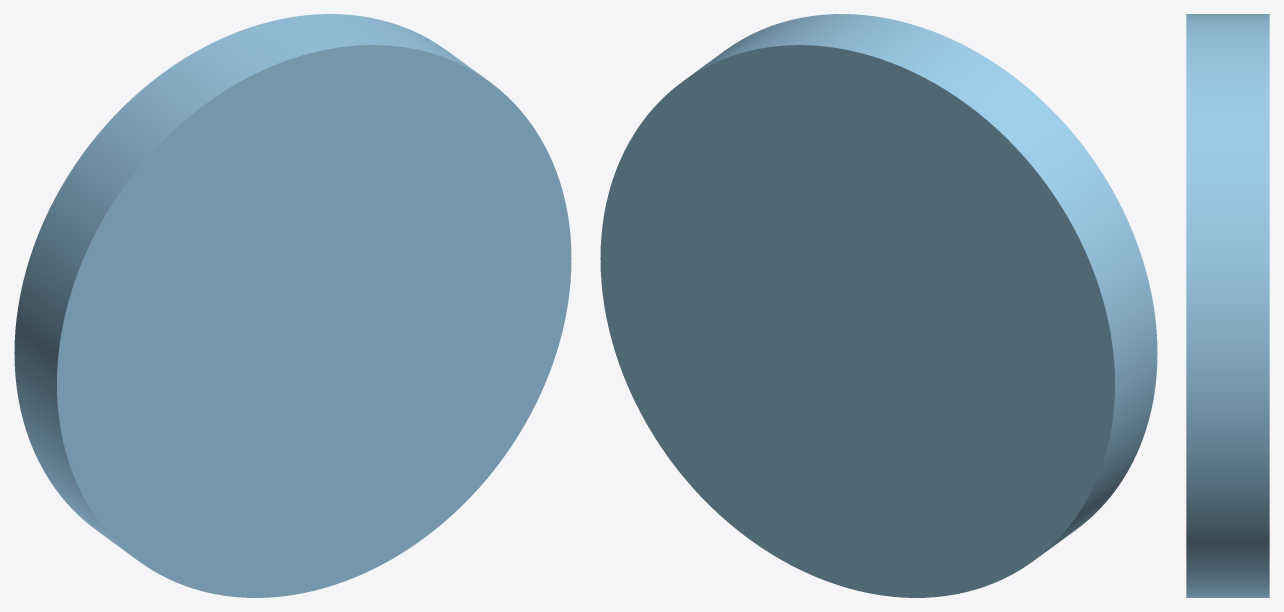
File: door_plate.obj
3 renders of one model, left to right at view 1: azimuth 30°, elevation 25°; view 2: azimuth 150°, elevation 25°; view 3: azimuth 270°, elevation 25°, orthographic.
Visible parts, largest first — view 1: mesh2, mesh1; view 2: mesh0, mesh1; view 3: mesh1.
Part boxes in pixels (box(x1,y1,x2,y2)): mesh2: box(57, 45, 571, 597); mesh1: box(14, 14, 485, 557); mesh0: box(600, 45, 1114, 597); mesh1: box(686, 14, 1157, 557); mesh1: box(1186, 14, 1269, 597).
Bounding box in the file's own units: 0.07 × 0.07 × 0.01.
